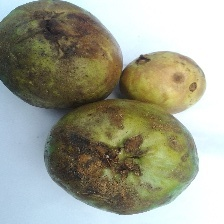guava: (55, 42, 196, 203)
